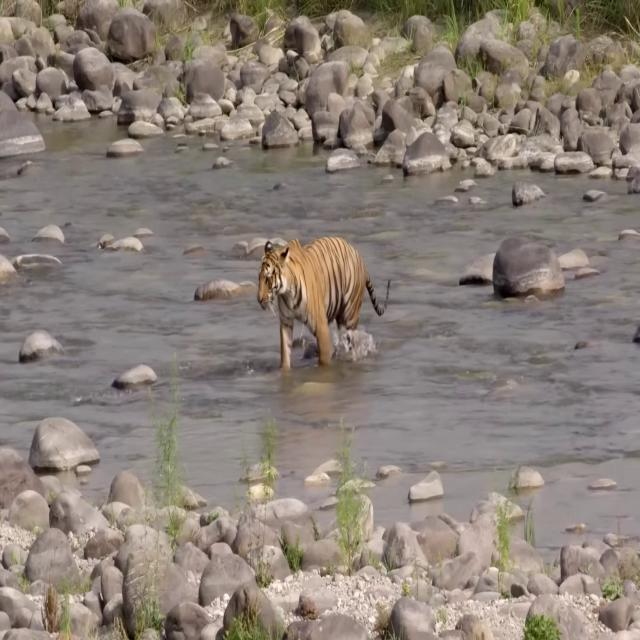tiger: (257, 236, 391, 369)
